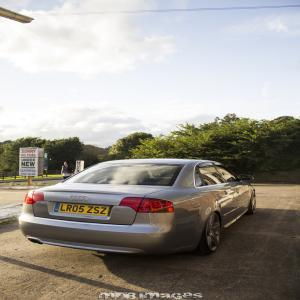Vehicle-registration-plate: (63, 203, 99, 227)
